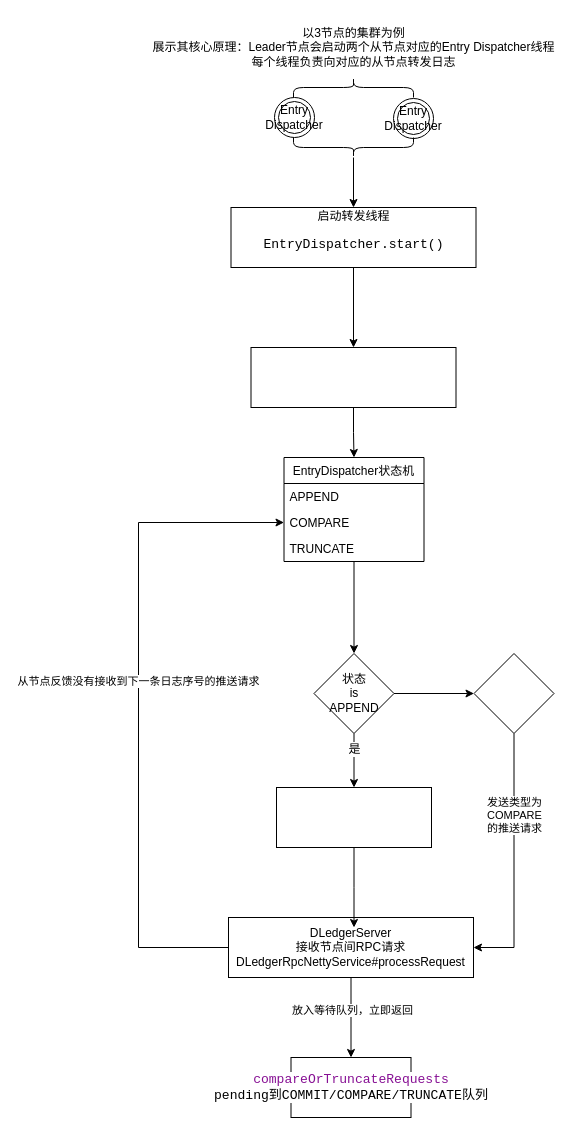
Some shapes in this 586 by 1135 pixel diagram are drawn without their labels. The shapes that lost their labels are listed below. From the top down, each one's centre as x and y in pixels, then its label:
At point (353, 377): "线程运行执行 EntryDispatcher. doWork".
At point (513, 693): "状态 is COMPARE".
At point (354, 817): "主节点根据日志序号依次向从节点发送推送日志请求".
